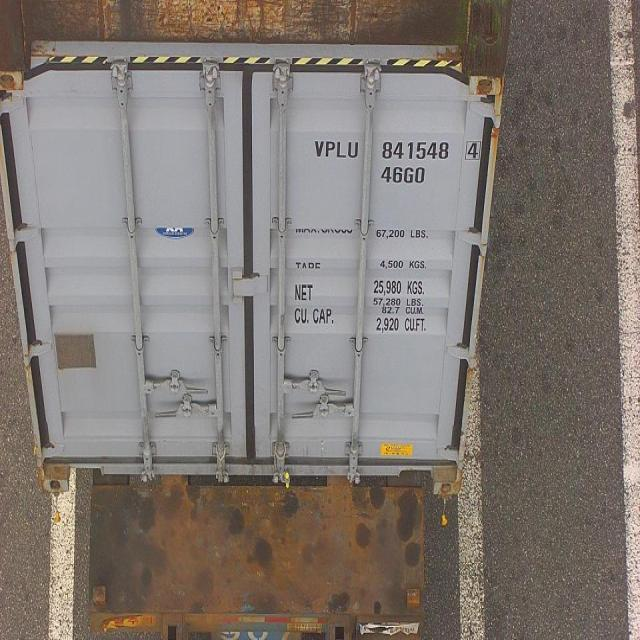ISO: (382, 163, 427, 185)
container_number: (318, 140, 476, 163)
